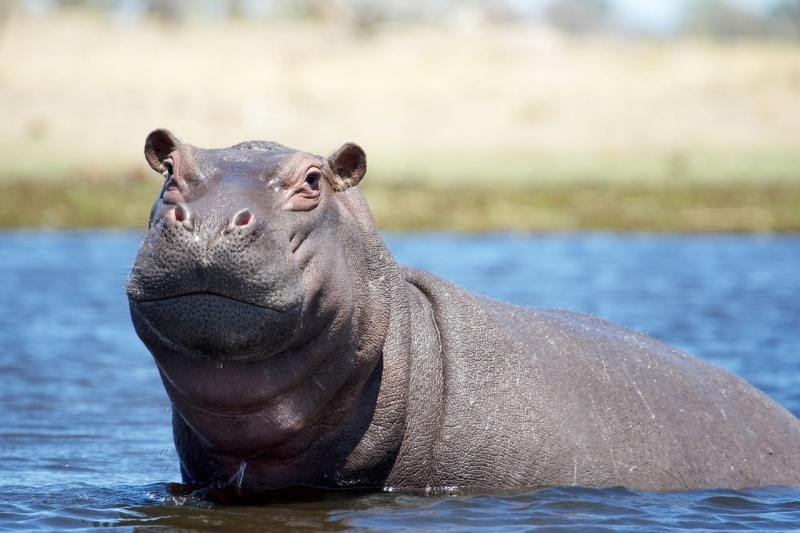hipopotamo: (118, 121, 800, 512)
